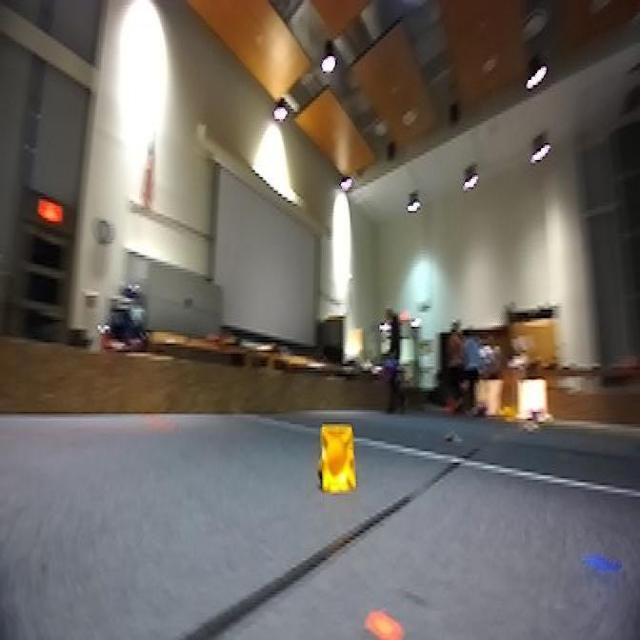frc_cone: (313, 424, 363, 500)
